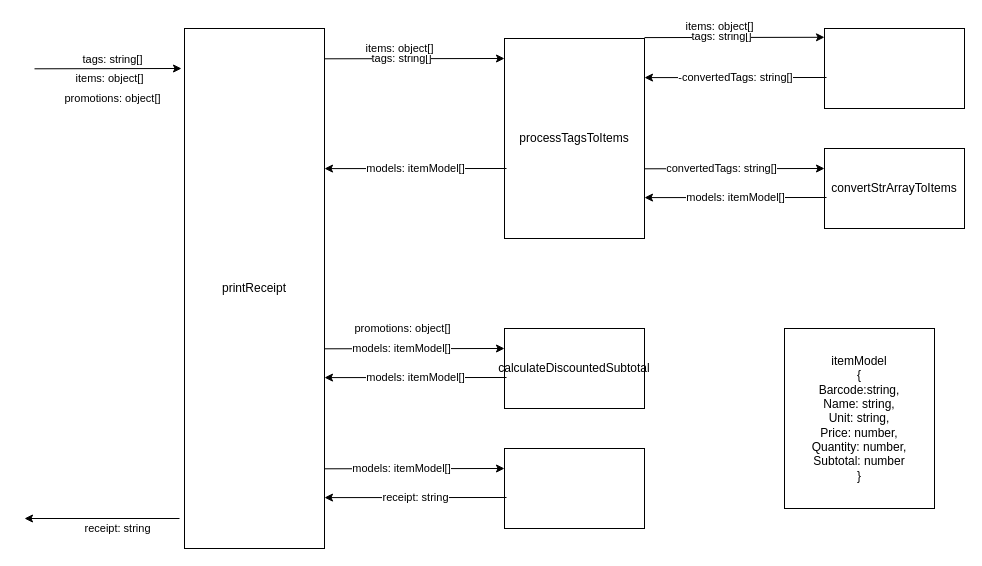
Some shapes in this 982 by 566 pixel diagram are drawn without their labels. The centre of each missing label's shape, as x and y in pixels:
convertTagsToStrArray: pixel 894 68
renderReceipt: pixel 574 488
